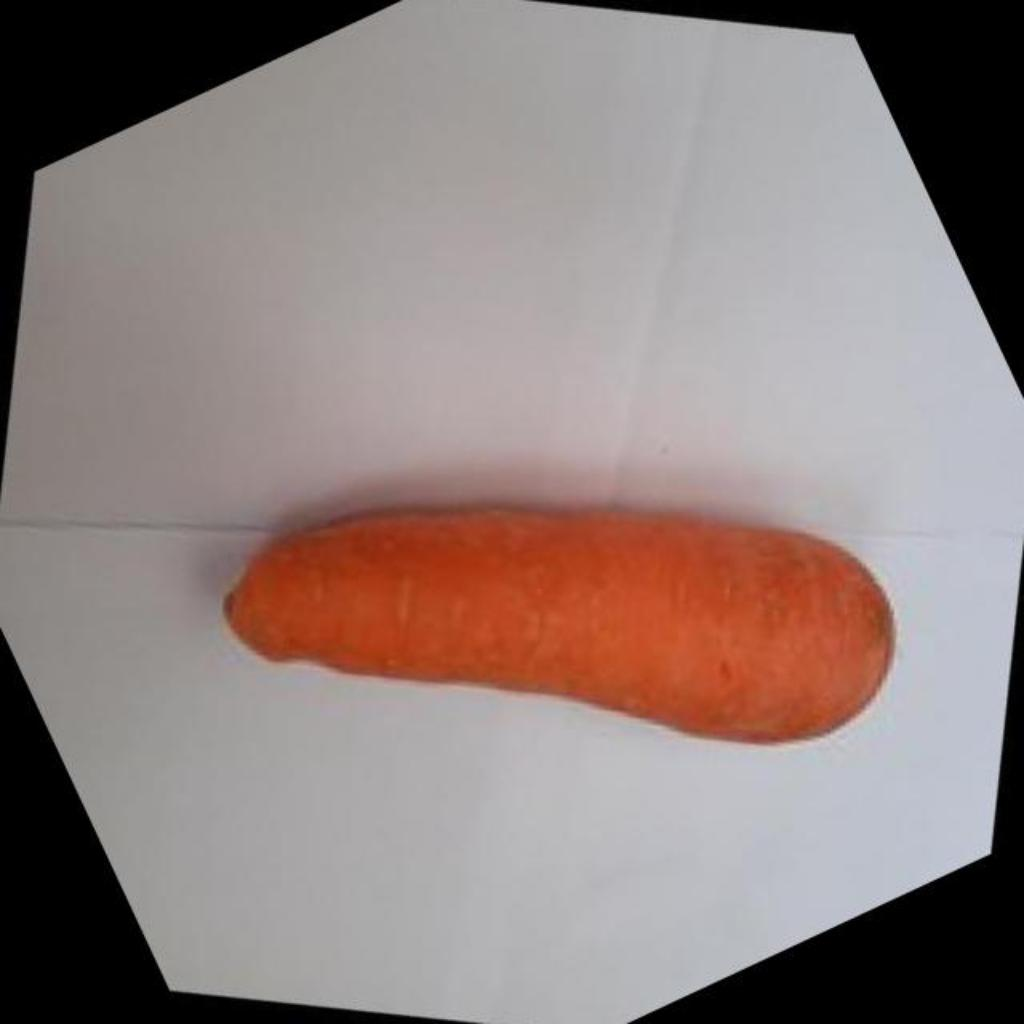carrot: (226, 510, 894, 743)
